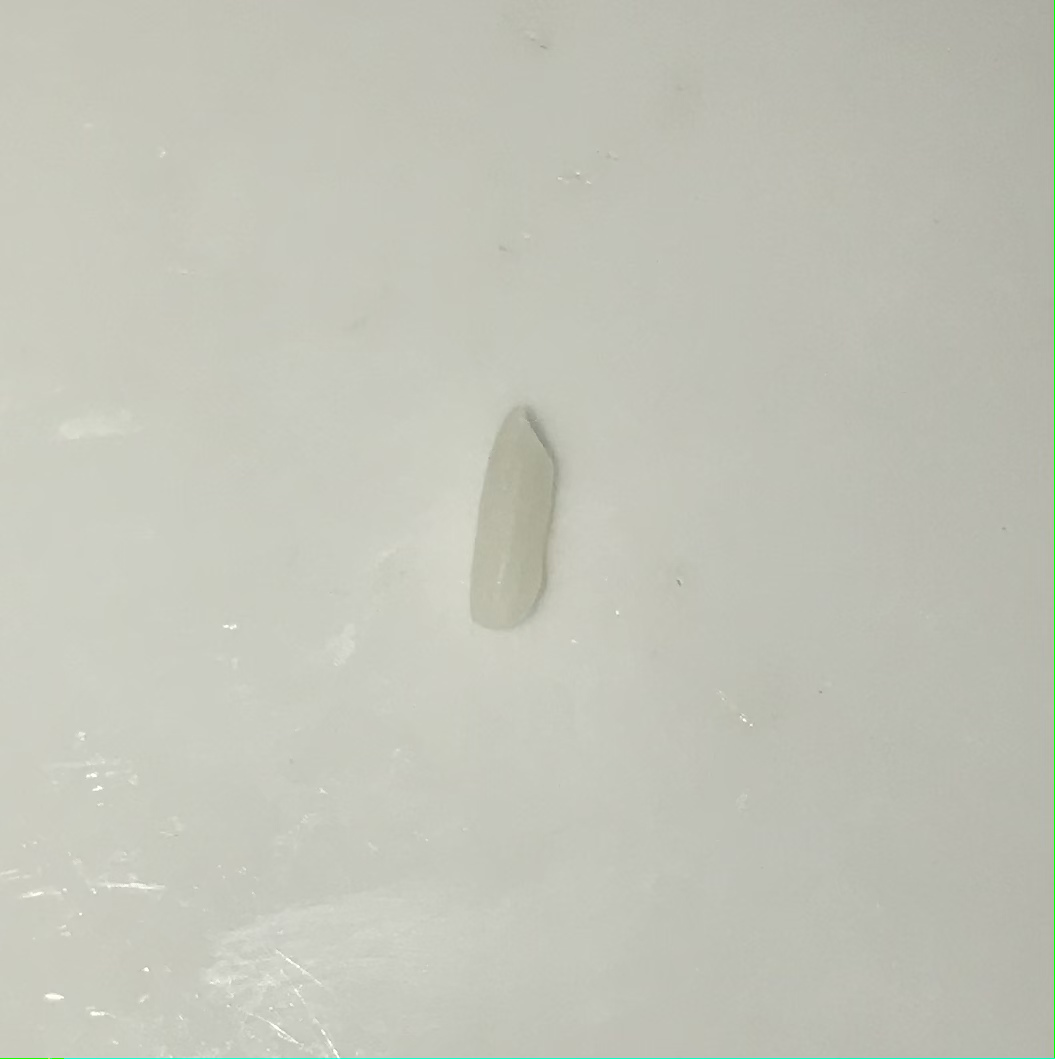Gao Lai Sua: (459, 394, 568, 644)
